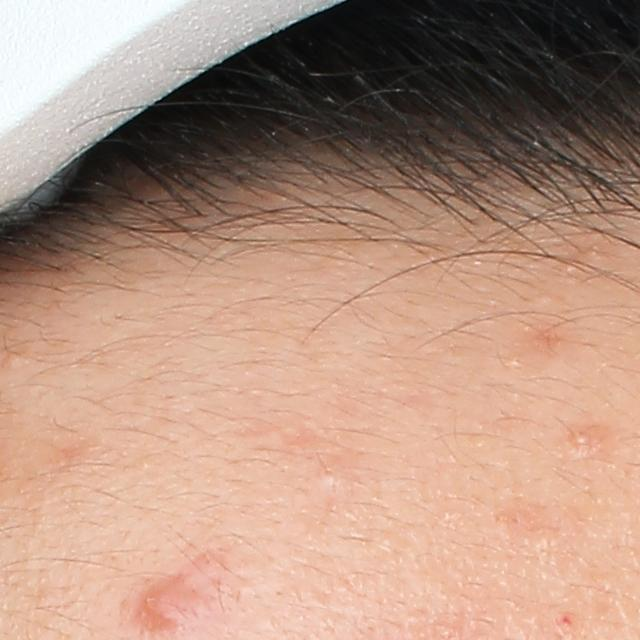comedo: (319, 464, 342, 488)
